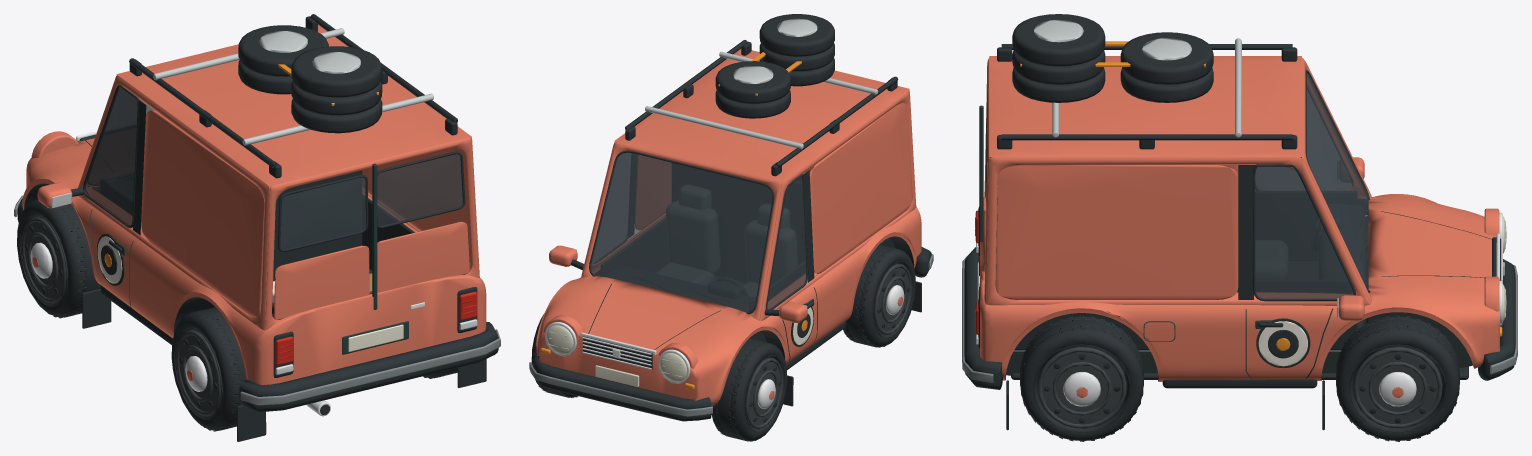
File: pitparts_lod1.fbx
3 renders of one model, left to right at view 1: azimuth 30°, elevation 25°; view 2: azimuth 150°, elevation 25°; view 3: azimuth 270°, elevation 25°, orthographic. The views are drawn at different scales.
Parts seen in each view (by area): view 1: Body, Wheel_FL_Mesh, Wheel_RL_Mesh; view 2: Body, Wheel_FL_Mesh, Wheel_RL_Mesh; view 3: Body, Wheel_RR_Mesh, Wheel_FR_Mesh.
Part boxes in pixels (x1,y1,x2,y2): Body: (14,14,500,441); Wheel_FL_Mesh: (17,199,101,318); Wheel_RL_Mesh: (171,307,246,431); Body: (529,14,933,421); Wheel_FL_Mesh: (711,338,787,441); Wheel_RL_Mesh: (843,244,915,347); Body: (962,14,1517,430); Wheel_RR_Mesh: (1020,315,1143,441); Wheel_FR_Mesh: (1336,315,1459,441).
Bounding box in the file's own units: 231 × 250 × 359.
